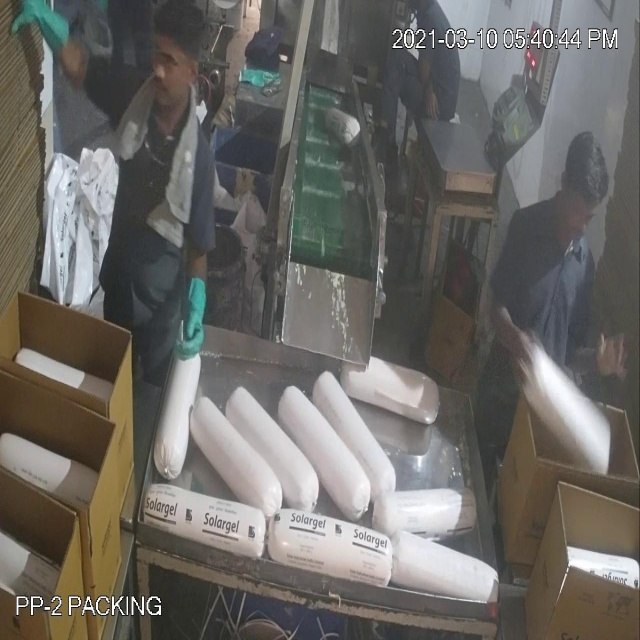Guantes: (173, 269, 224, 366), (4, 1, 76, 61)
Sin_guantes: (476, 271, 539, 385), (565, 313, 636, 395)
